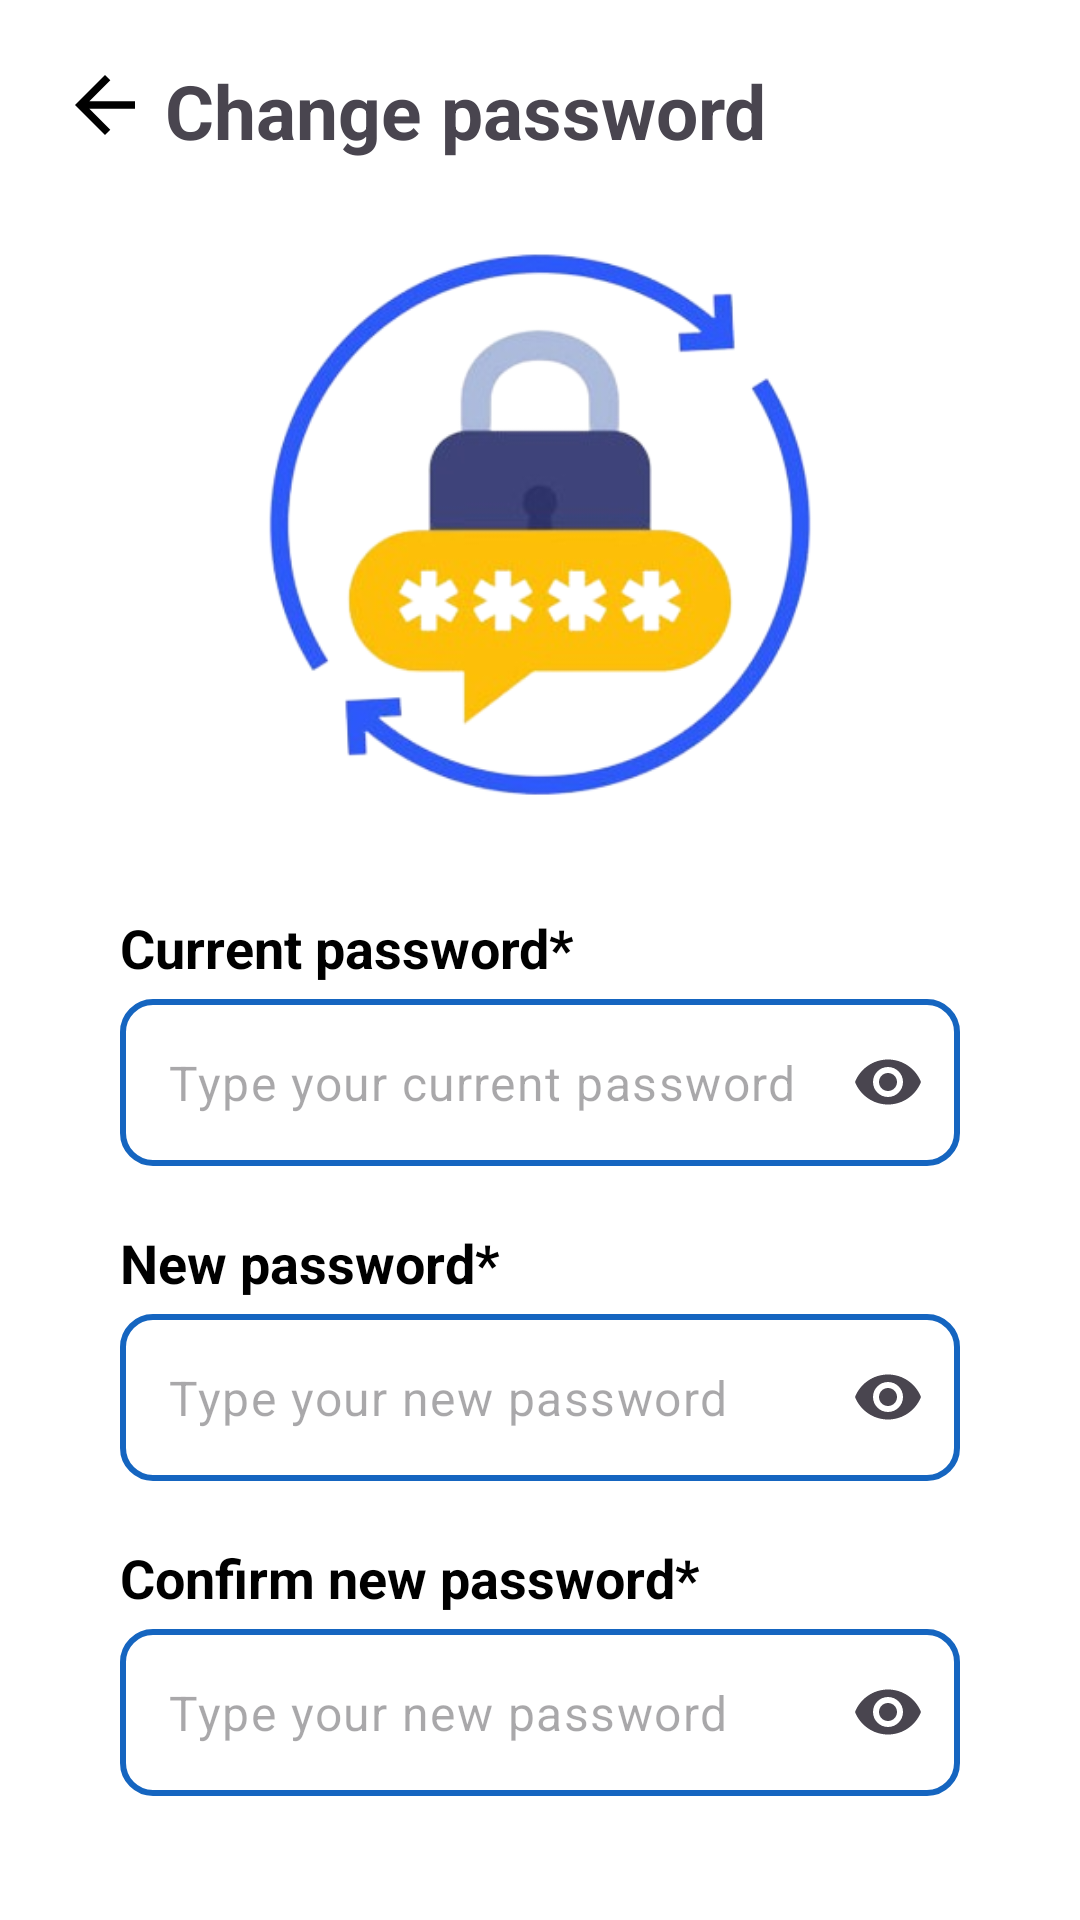

Screen size 1080px x 1920px. Icon name, then its box in pixels as (x1, y1, x2, y2):
arrow back: (75, 75, 135, 135)
